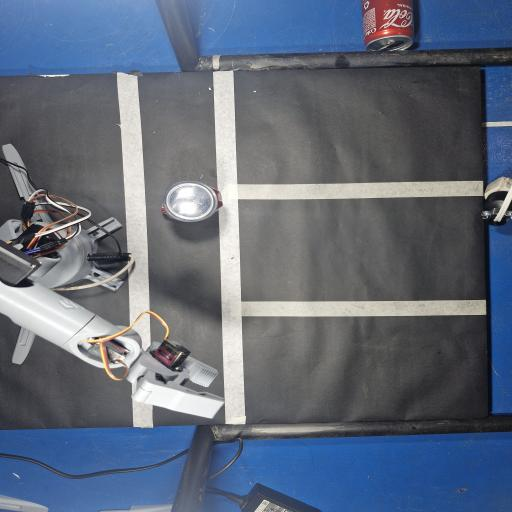lata_defectuoso: (162, 181, 222, 222)
